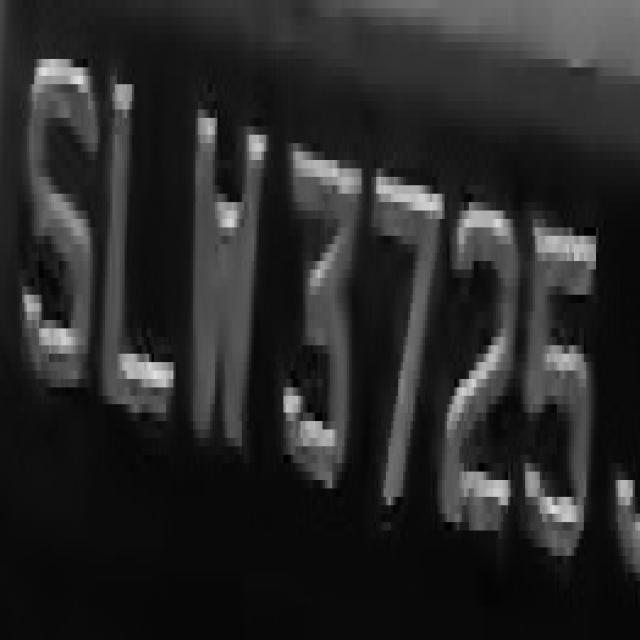2: (445, 135, 520, 572)
3: (281, 110, 369, 506)
5: (523, 177, 601, 556)
7: (367, 126, 442, 539)
L: (98, 42, 178, 463)
S: (17, 34, 98, 404)
W: (180, 67, 268, 480)
